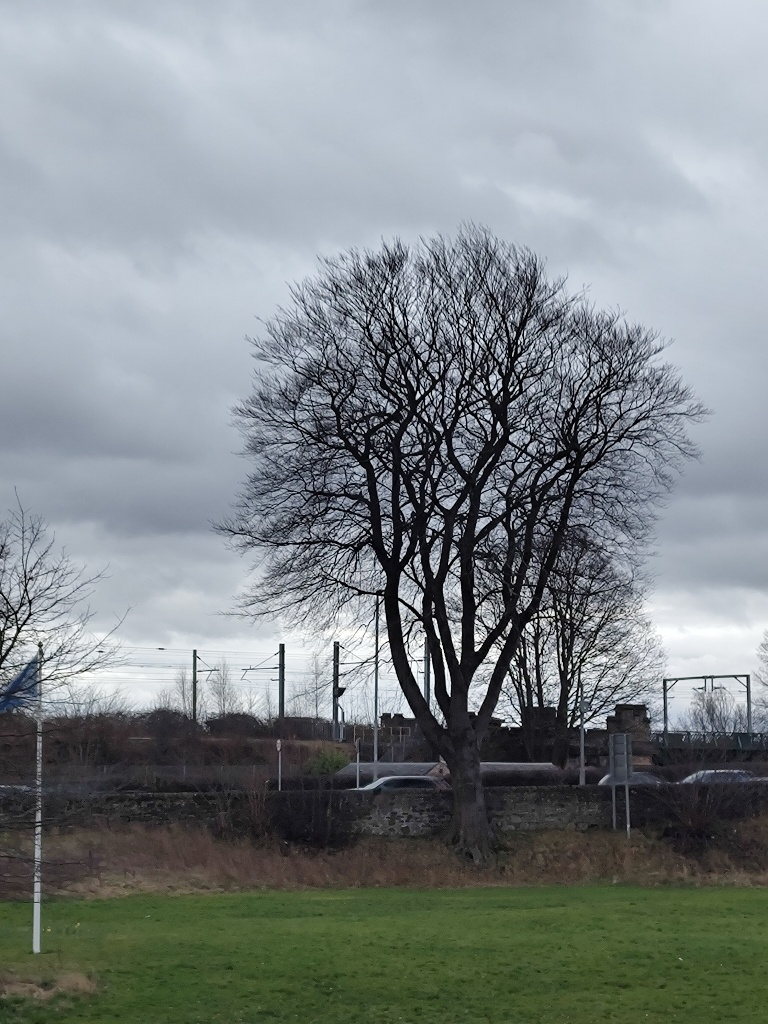Tree: (205, 211, 718, 871)
